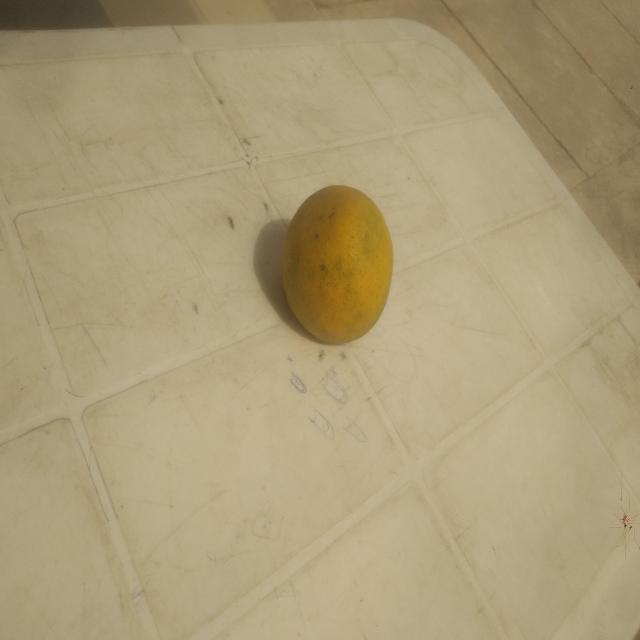Ripe orange: (260, 148, 411, 392)
